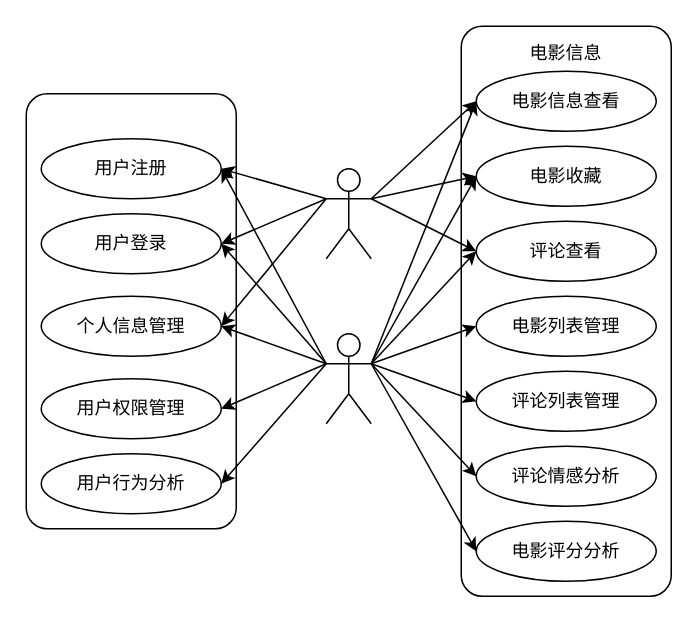
Image size: 698x623. Some labels were removed from this diagram. The shapes that lost their labels are listed below. From the top down, each one's box as (x1, y1, x2, y2) in pixels, then its label:
(325, 167, 371, 259): 普通用户
(25, 92, 236, 529): 用户信息
(325, 332, 371, 424): 管理员
